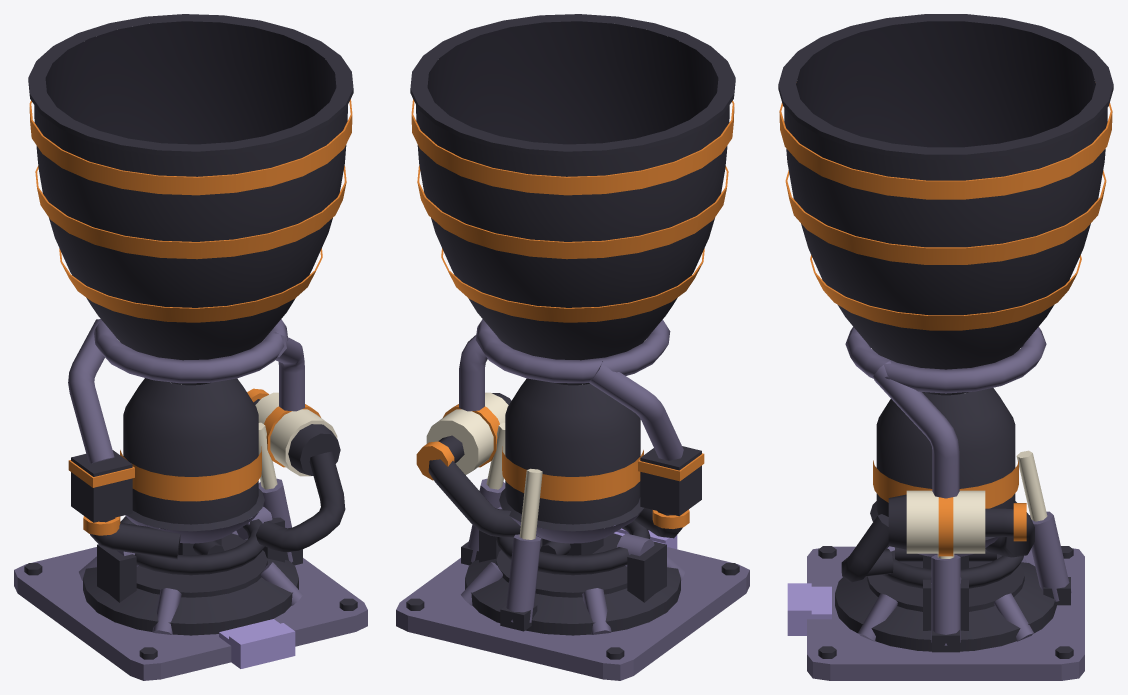
The model's file is chem_main_engine.glb.
3 views of the same model, side by side, from view 1: azimuth 30°, elevation 25°; view 2: azimuth 150°, elevation 25°; view 3: azimuth 270°, elevation 25° (orthographic). The views are drawn at different scales.
Visible parts, largest first — view 1: engine_Graphite, engine_DecalDark, engine_Orange, mount_PurpleGrey_mesh, mount_Graphite_mesh, engine_PurpleGrey, mount_Lavender_mesh, engine_CreamHull, mount_CreamHull_mesh; view 2: engine_Graphite, engine_DecalDark, engine_Orange, mount_PurpleGrey_mesh, mount_Graphite_mesh, engine_PurpleGrey, engine_CreamHull, mount_CreamHull_mesh; view 3: engine_Graphite, engine_DecalDark, mount_PurpleGrey_mesh, engine_Orange, mount_Graphite_mesh, engine_PurpleGrey, engine_CreamHull, mount_Lavender_mesh, mount_CreamHull_mesh.
Boxes of the visible parts, box(x1,y1,x2,y2) form: engine_Graphite: box(28, 14, 353, 559); engine_DecalDark: box(45, 21, 336, 144); engine_Orange: box(29, 99, 352, 535); mount_PurpleGrey_mesh: box(14, 478, 367, 680); mount_Graphite_mesh: box(24, 516, 357, 659); engine_PurpleGrey: box(68, 319, 304, 543); mount_Lavender_mesh: box(219, 619, 295, 668); engine_CreamHull: box(255, 392, 337, 476); mount_CreamHull_mesh: box(258, 422, 277, 489); engine_Graphite: box(410, 14, 735, 555); engine_DecalDark: box(427, 21, 718, 144); engine_Orange: box(411, 99, 734, 528); mount_PurpleGrey_mesh: box(396, 478, 749, 680); mount_Graphite_mesh: box(406, 519, 739, 659); engine_PurpleGrey: box(459, 319, 683, 543); engine_CreamHull: box(426, 392, 508, 474); mount_CreamHull_mesh: box(486, 422, 542, 539); engine_Graphite: box(778, 14, 1113, 582); engine_DecalDark: box(796, 21, 1095, 147); mount_PurpleGrey_mesh: box(807, 511, 1084, 680); engine_Orange: box(779, 103, 1112, 556); mount_Graphite_mesh: box(818, 544, 1073, 658); engine_PurpleGrey: box(845, 327, 1046, 556); engine_CreamHull: box(906, 490, 985, 553); mount_Lavender_mesh: box(787, 583, 831, 635); mount_CreamHull_mesh: box(937, 450, 1047, 558).
Size of the model in its own units: 0.3594 by 0.641 by 0.362.
